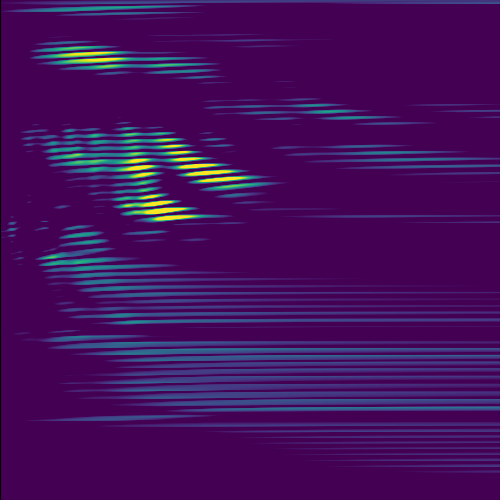semblance: (43, 37, 129, 72), (130, 188, 202, 226), (119, 151, 162, 181)
